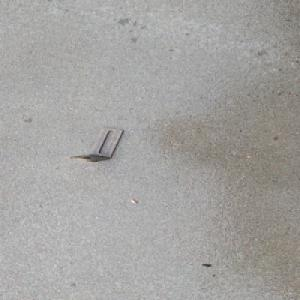MetalPart: (69, 126, 123, 162)
